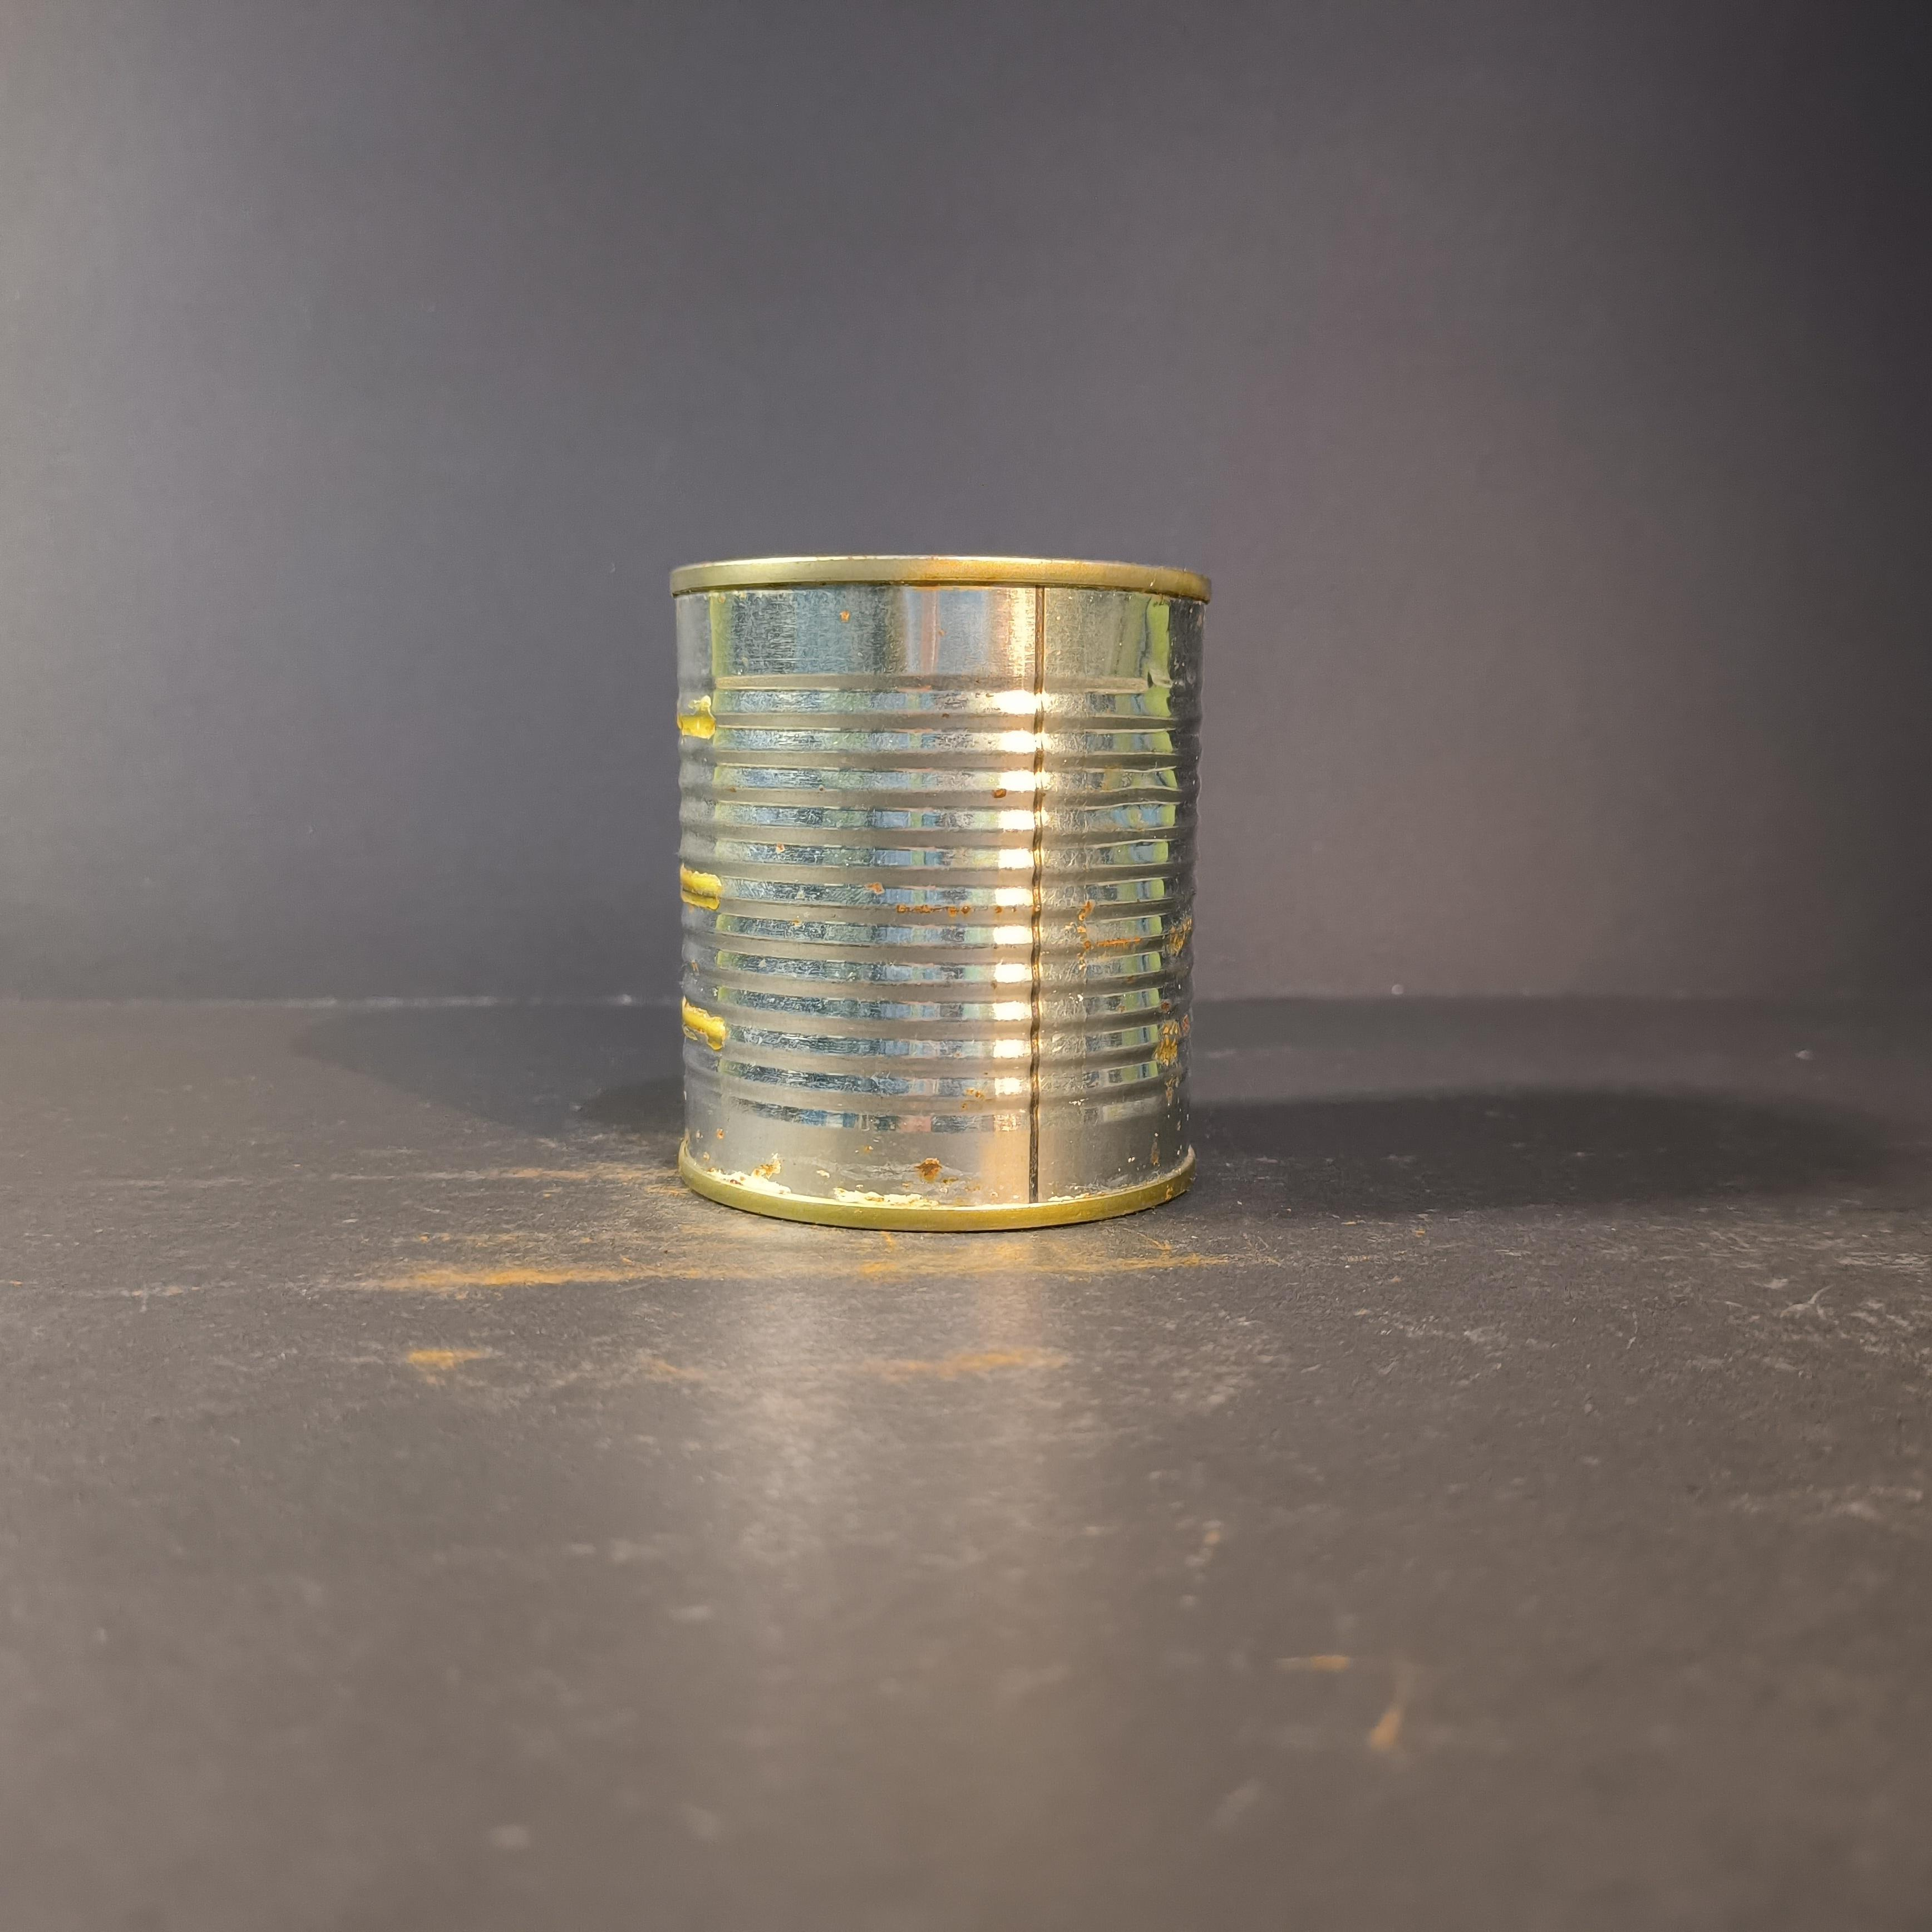Rusted: (667, 524, 1235, 1258)
